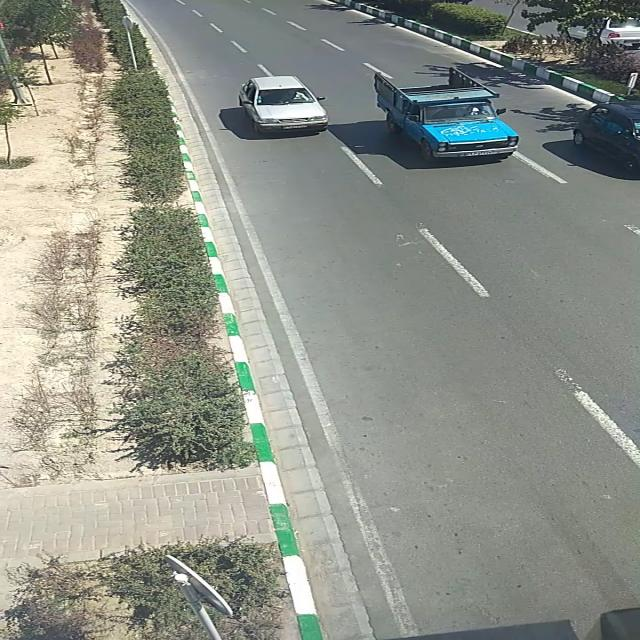car: (374, 73, 521, 161), (238, 78, 329, 134), (572, 101, 640, 167), (565, 17, 639, 46)
